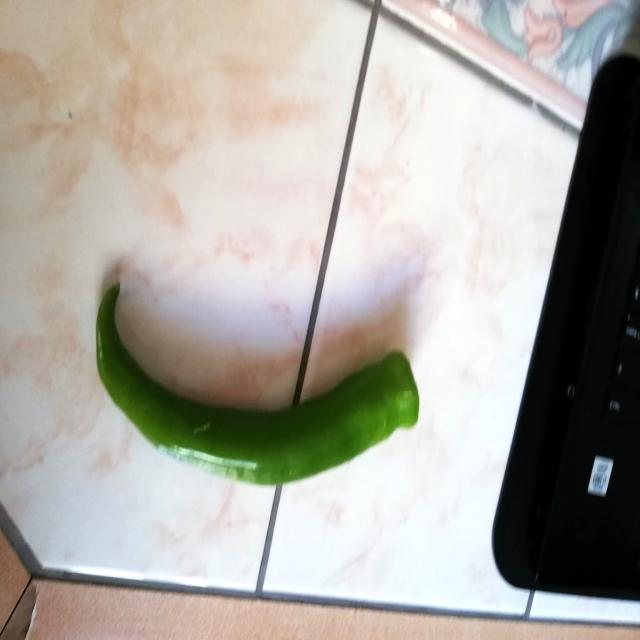green pepper: (94, 270, 424, 490)
